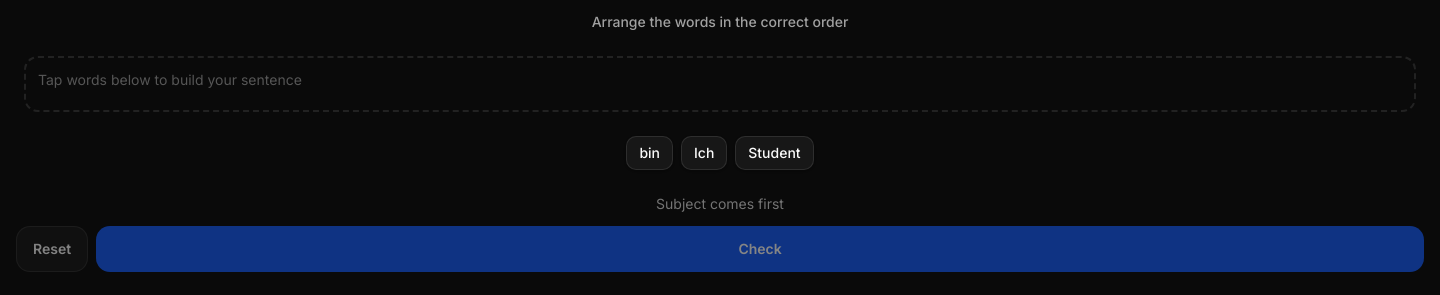
Scenario: SentenceOrderExercise › shows correct answer when wrong
Click the button "bin" at (650, 153), box 626,136 -> 673,170
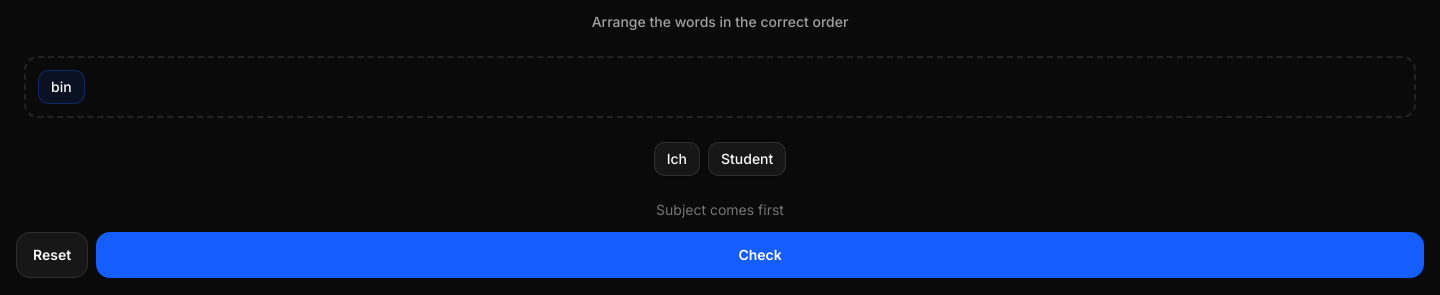
Click the button "Student" at (747, 159), box 708,142 -> 786,176
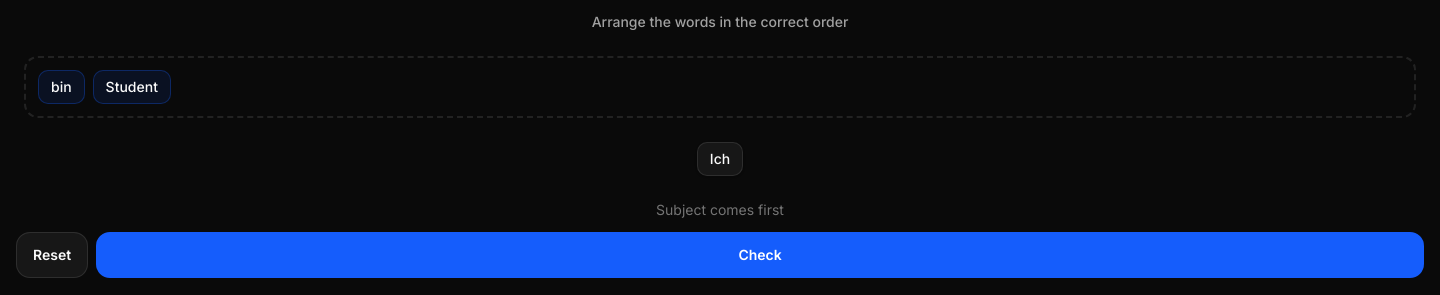
Click the button "Ich" at (720, 159), box 697,142 -> 743,176
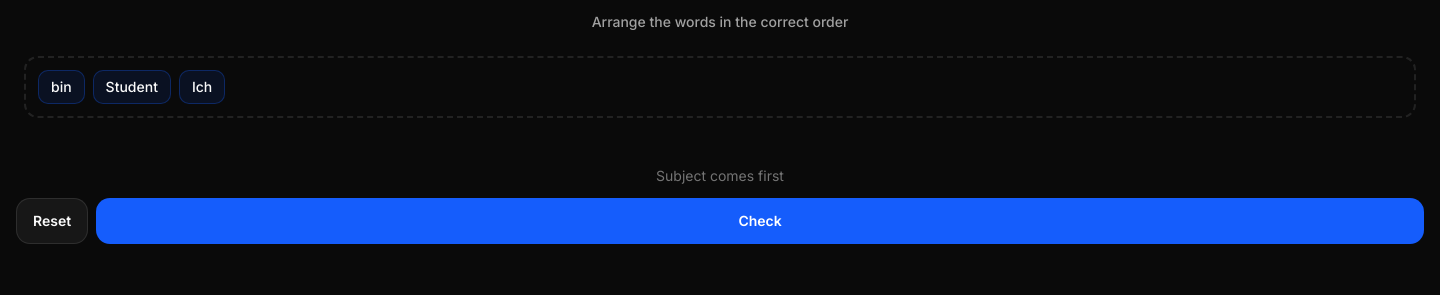
Click the button "Check" at (760, 221), box 96,198 -> 1424,244
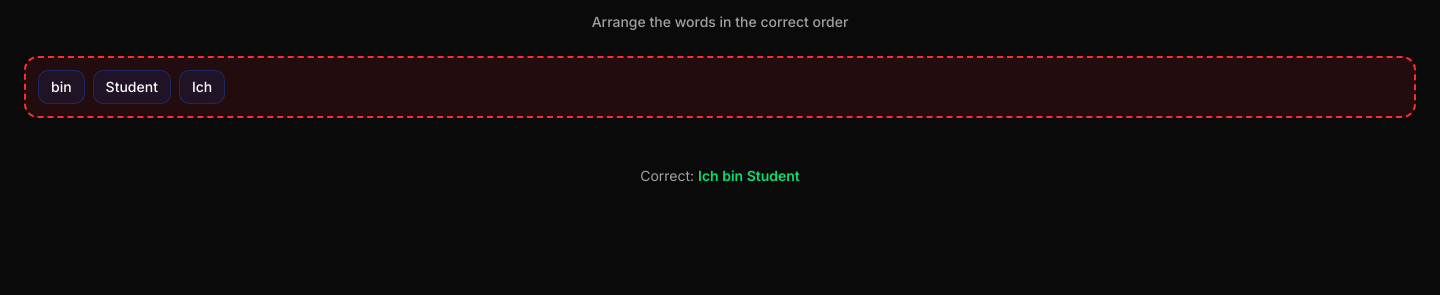
Expected: the text "Ich bin Student" is shown, 698,167 -> 800,184
